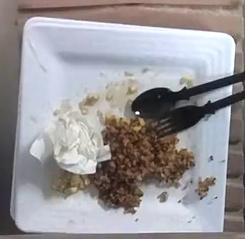quinoa: (93, 115, 192, 208)
